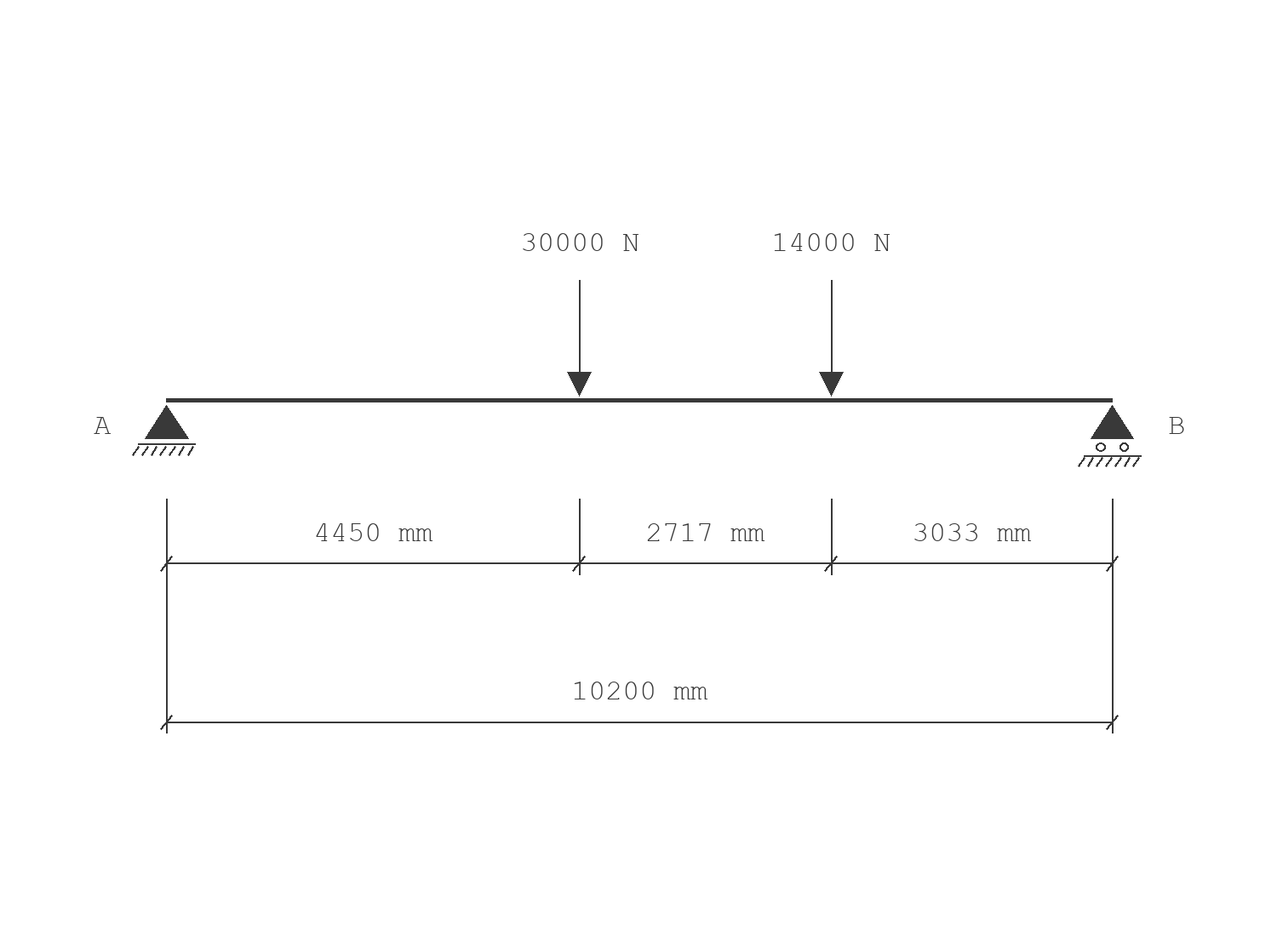pin_support: (132, 405, 196, 456)
point_load: (567, 280, 592, 397), (819, 280, 844, 397)
roller_support: (1078, 405, 1142, 467)
